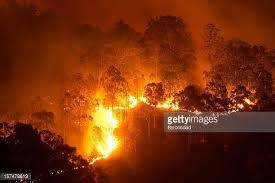fire: (230, 94, 257, 112), (156, 97, 179, 110)
